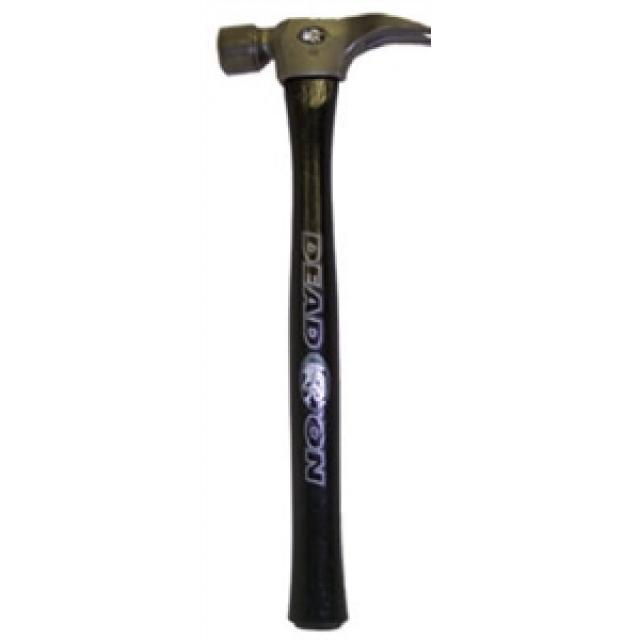hammer: (212, 7, 440, 634)
